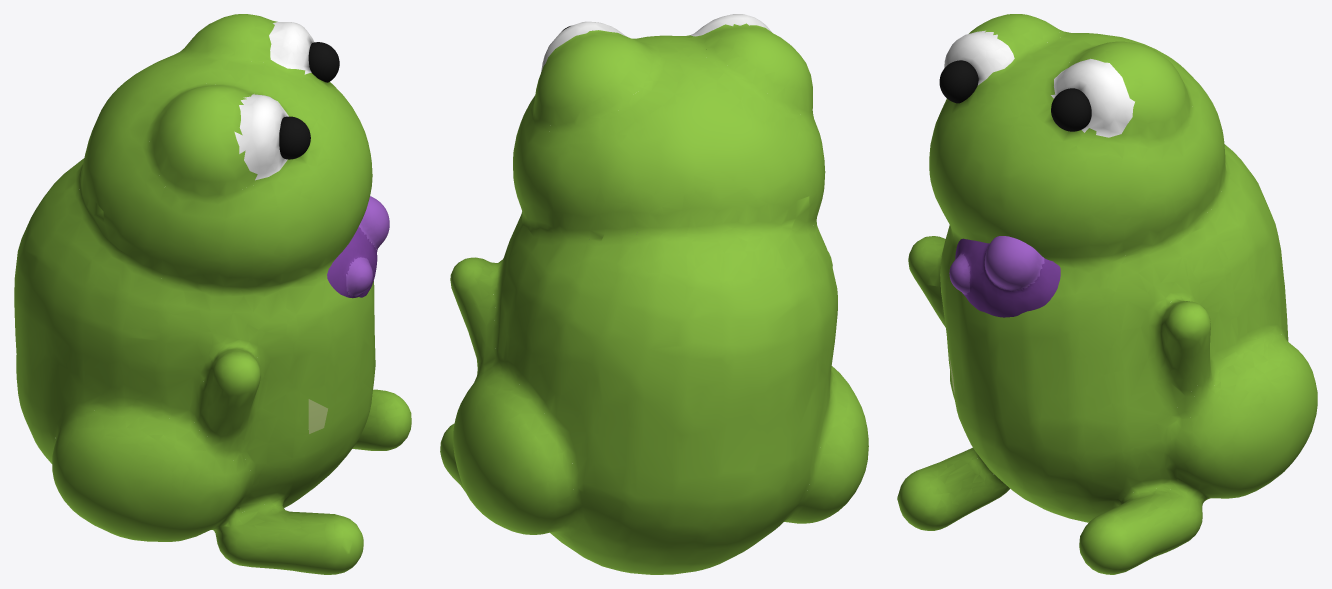
File: ingen-fara.glb
The picture shows the model from 3 angles, left to right: view 1: azimuth 30°, elevation 25°; view 2: azimuth 150°, elevation 25°; view 3: azimuth 270°, elevation 25°; orthographic projection. The views are drawn at different scales.
Visible parts, largest first — view 1: sapo__r0, papo__r0, sapo__r3, sapo__r1; view 2: sapo__r0; view 3: sapo__r0, papo__r0, sapo__r1, sapo__r3.
Boxes of the visible parts, bbox=[...] form: sapo__r0: bbox=[14, 14, 411, 574]; papo__r0: bbox=[327, 196, 389, 298]; sapo__r3: bbox=[279, 116, 310, 159]; sapo__r1: bbox=[308, 42, 339, 82]; sapo__r0: bbox=[440, 14, 868, 574]; sapo__r0: bbox=[897, 14, 1317, 574]; papo__r0: bbox=[949, 236, 1060, 317]; sapo__r1: bbox=[1051, 88, 1091, 131]; sapo__r3: bbox=[939, 60, 978, 103].
Bounding box in the file's own units: 1.1 × 1.36 × 1.07.
